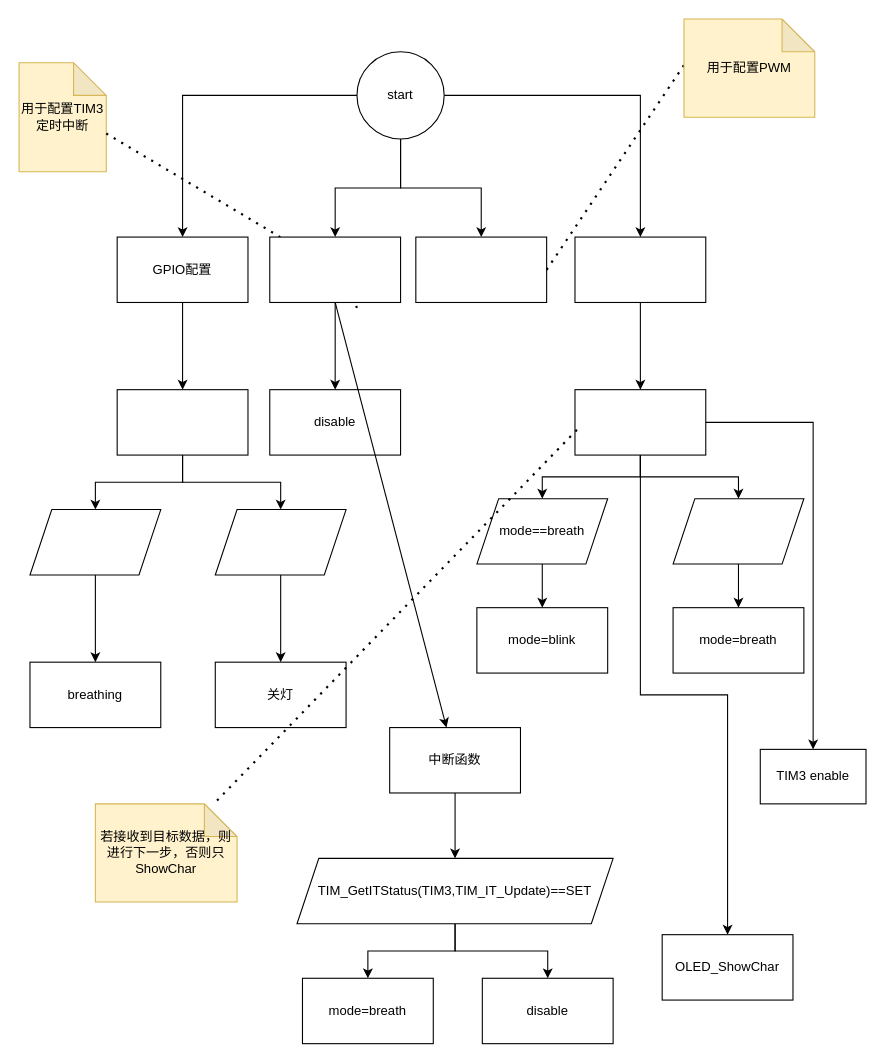
Some shapes in this 885 by 1063 pixel diagram are drawn without their labels. Each missing label, with the centre of its shape:
"GPIO中断函数作为灯的开关" belongs at (182,422).
"led_on==0" belongs at (280,541).
"led_on==1" belongs at (95,541).
"mode==blink" belongs at (738,531).
"TIM2配置" belongs at (481,269).
"TIM3配置" belongs at (335,269).
"USART中断函数切换模式" belongs at (640,422).
"USART配置" belongs at (640,269).
